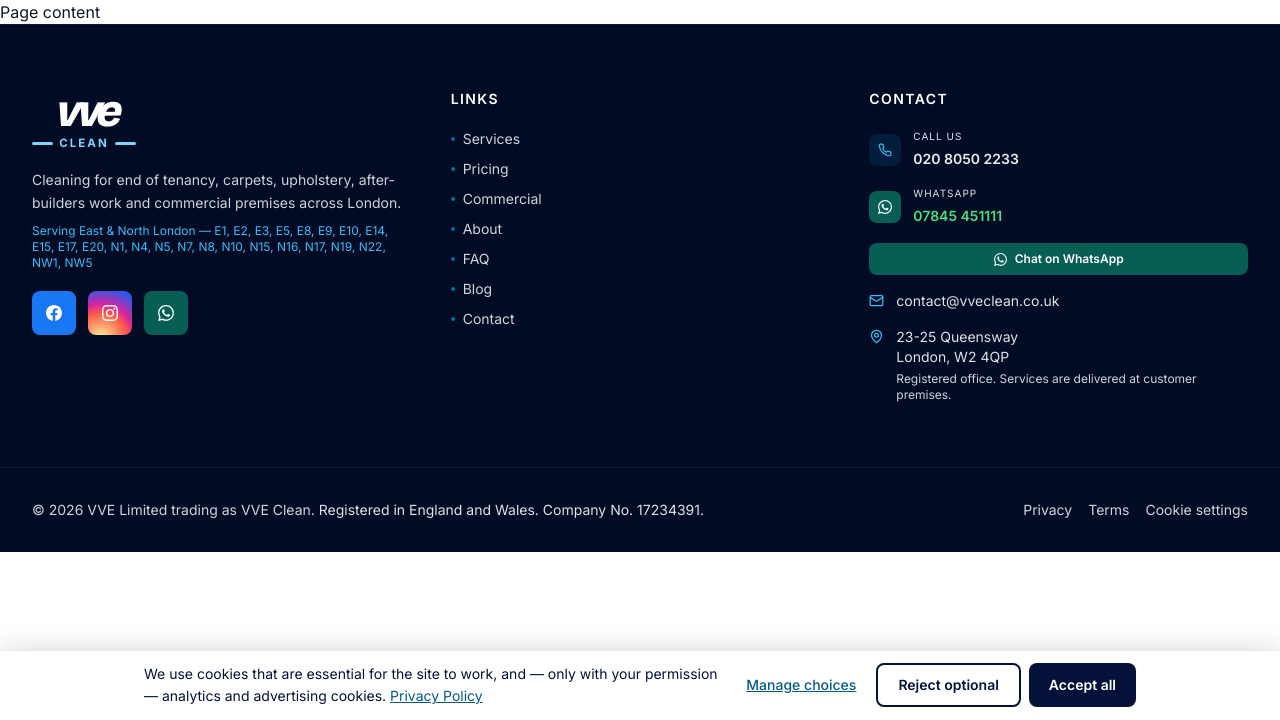
CookieConsentProvider — Manage choices › opens an accessible dialog with Essential always-on, and Analytics/Advertising defaulting to off on first visit
Click the button "Manage choices" at (801, 685), box 734,663 -> 868,707
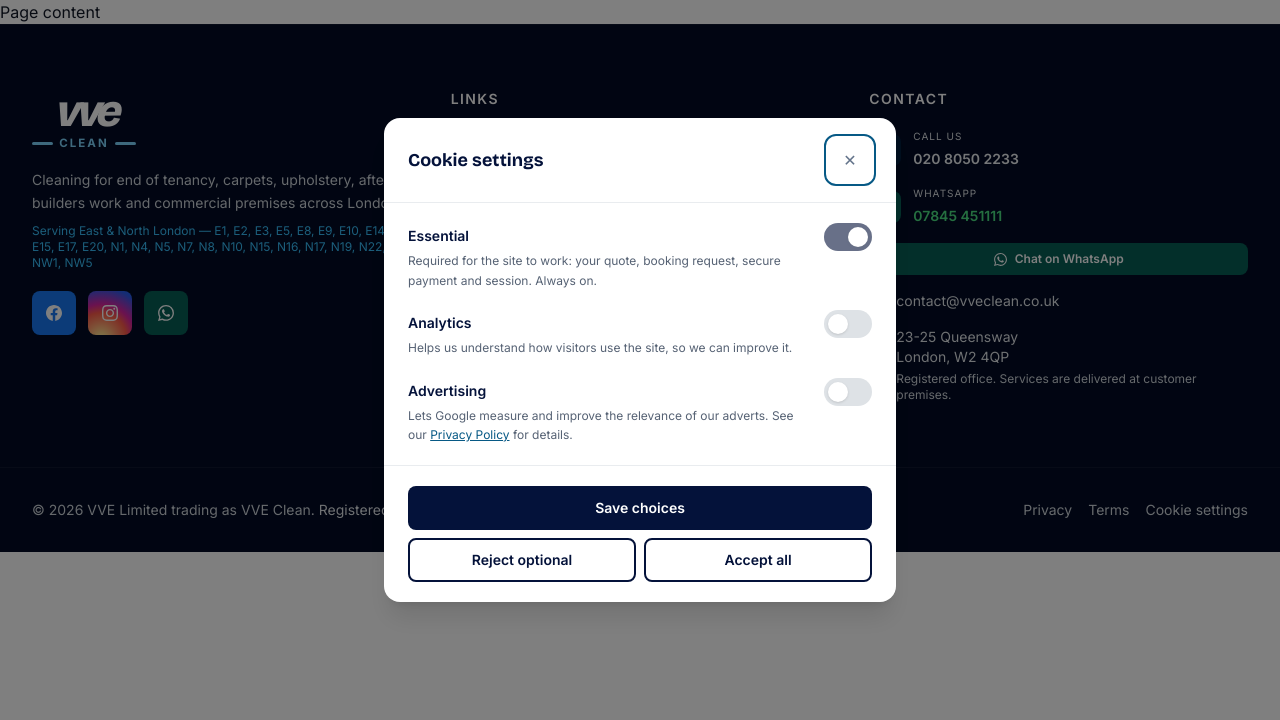
Expected: the dialog "Cookie settings" is shown, 384,118 -> 896,602
Expected: the switch named "Analytics" in the row of "Analytics" is shown, 824,310 -> 872,338
Expected: the switch named "Advertising" in the row of "Advertising" is shown, 824,378 -> 872,406
